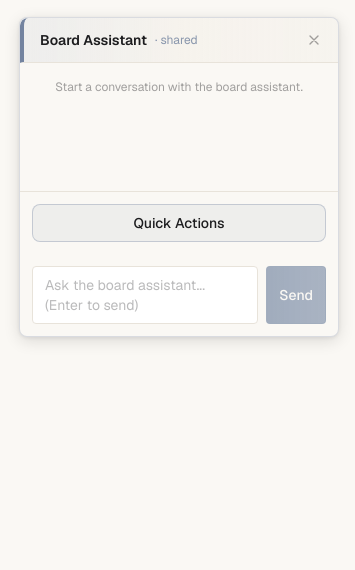
Test: GlobalAgentPanel › clears combo warning when conflicting pill is removed
Click the button with test id "quick-actions-trigger" at (179, 223), box x1=32 y1=204 x2=326 y2=242
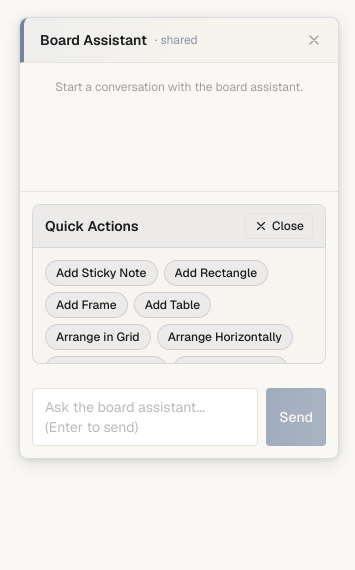
Click the menu item "Add Sticky Note" at (101, 273), box x1=45 y1=260 x2=158 y2=286
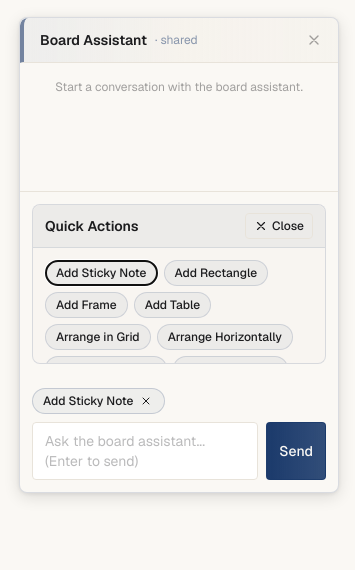
Click the menu item "Arrange in Grid" at (98, 337), box x1=45 y1=324 x2=151 y2=350
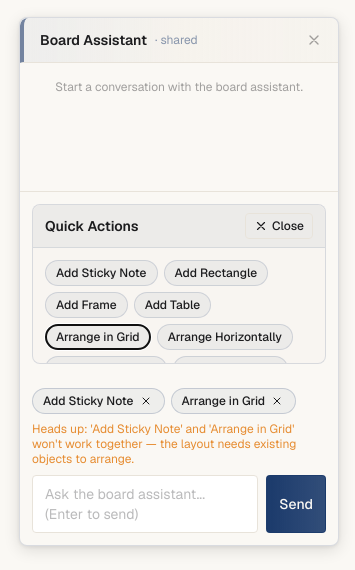
Click the button with test id "quick-actions-close" at (279, 226), box x1=245 y1=213 x2=313 y2=239
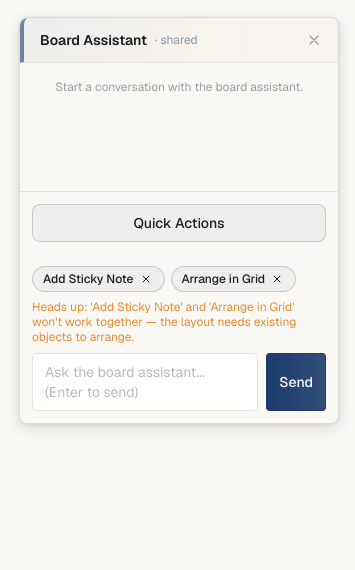
Expected: the text with test id "combo-warning" is shown, x1=32 y1=300 x2=326 y2=345
// Remove the grid pill
Click the button named "remove arrange in grid" at (277, 279), box x1=269 y1=271 x2=285 y2=287
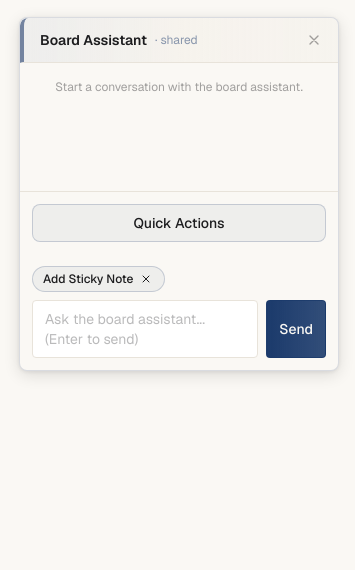
Expected: the text with test id "combo-warning" is gone
